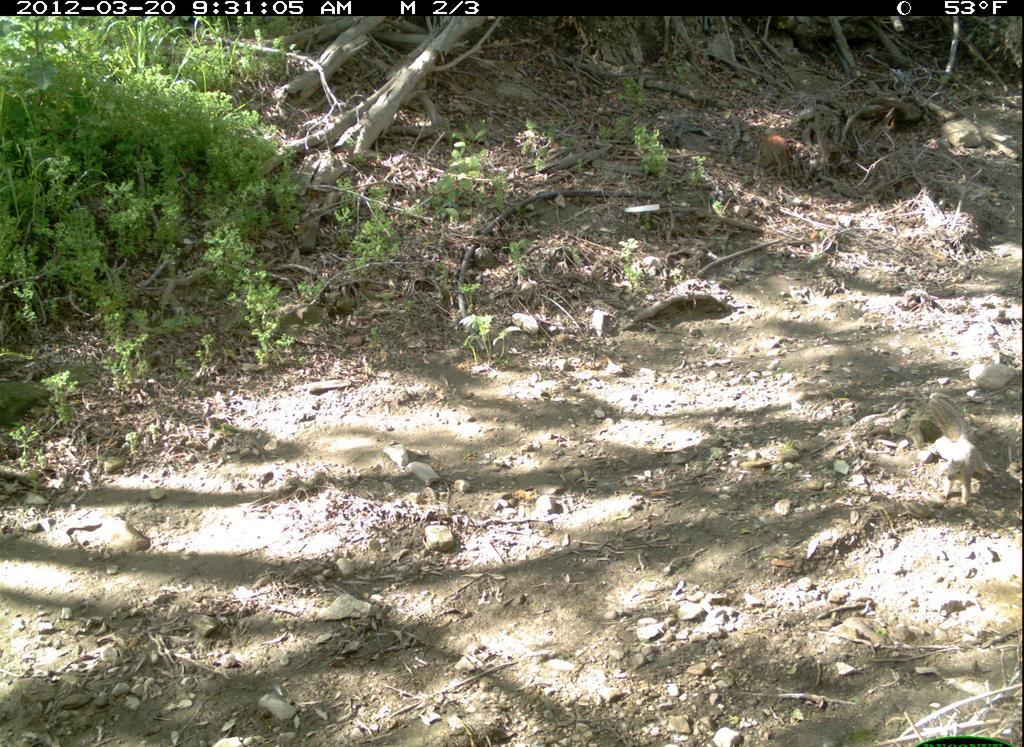squirrel: (916, 379, 994, 521)
